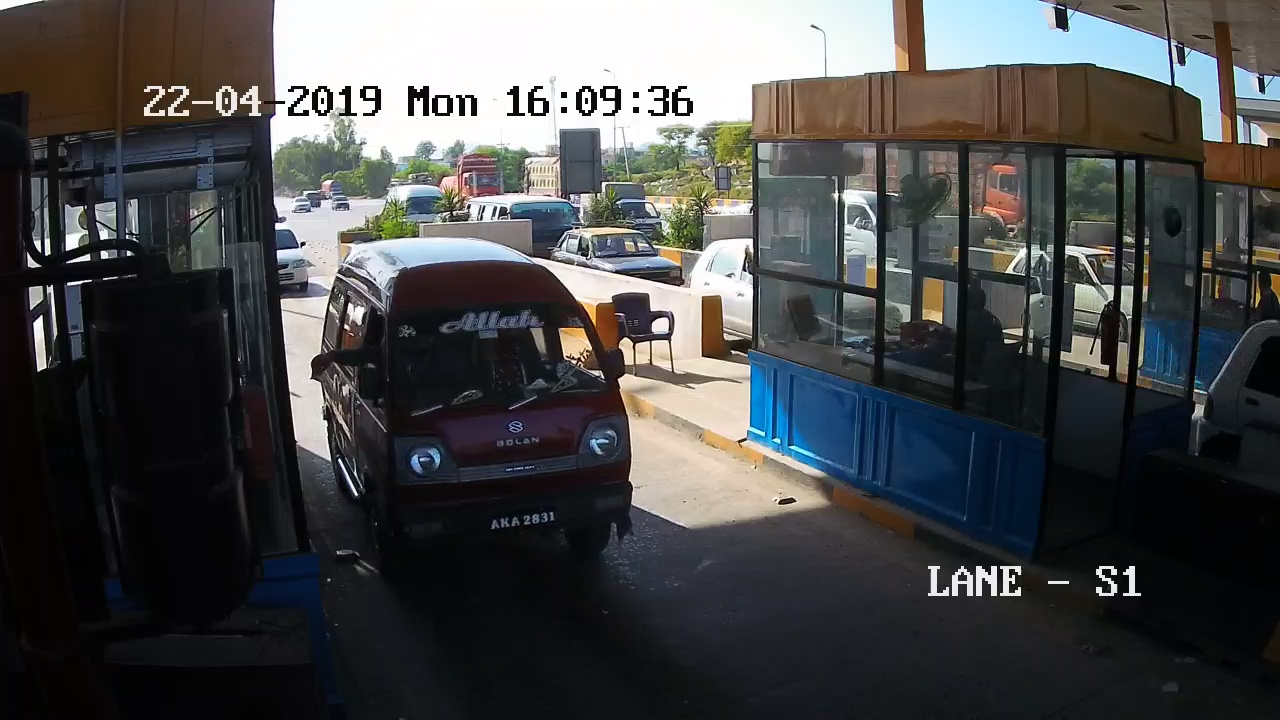Number Plate (Car): (487, 512, 557, 531)
